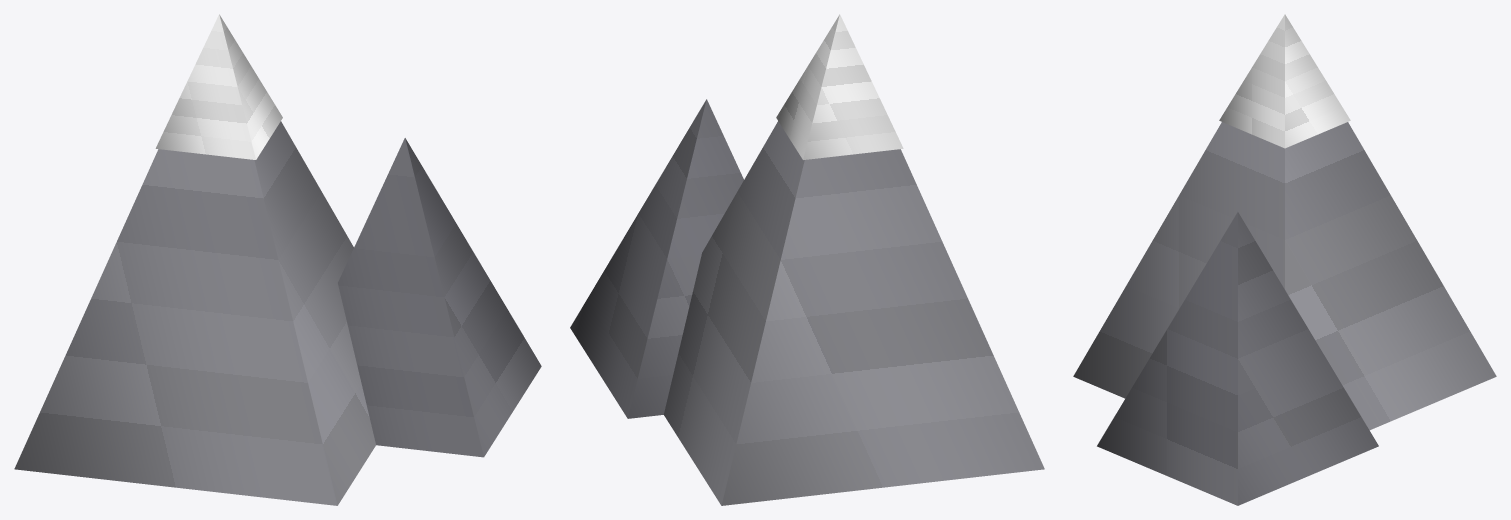
File: montana.glb
The picture shows the model from 3 angles, left to right: view 1: azimuth 30°, elevation 25°; view 2: azimuth 150°, elevation 25°; view 3: azimuth 270°, elevation 25°; orthographic projection. The views are drawn at different scales.
Visible parts, largest first — view 1: montana; view 2: montana; view 3: montana.
Boxes of the visible parts, left/top/right/bottom form: montana: left=14, top=14, right=541, bottom=505; montana: left=570, top=14, right=1044, bottom=505; montana: left=1073, top=14, right=1496, bottom=505.
Size of the model in its own units: 1.1 by 0.85 by 0.9.
Materials: 3 (3 with a texture image).
